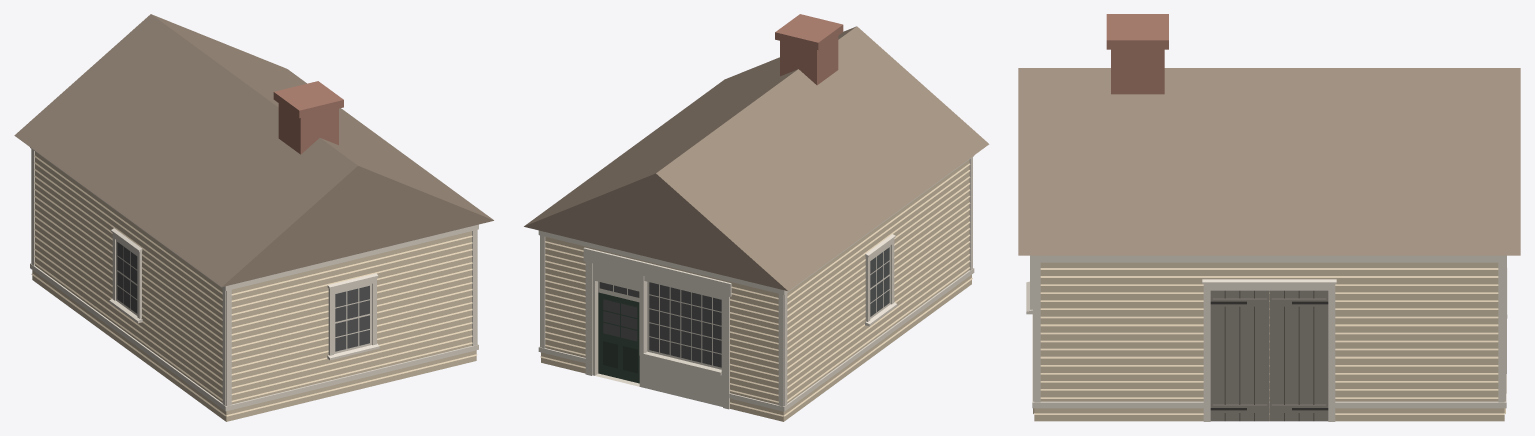
The model's file is recon_1835_core_c1_056__inferred_1835.glb.
3 views of the same model, side by side, from view 1: azimuth 30°, elevation 25°; view 2: azimuth 150°, elevation 25°; view 3: azimuth 270°, elevation 25° (orthographic). The views are drawn at different scales.
Parts seen in each view (by area): view 1: recon_1835_core_c1_056__inferred_1835; view 2: recon_1835_core_c1_056__inferred_1835; view 3: recon_1835_core_c1_056__inferred_1835.
Part boxes in pixels (x1,y1,x2,y2): recon_1835_core_c1_056__inferred_1835: [14, 14, 493, 421]; recon_1835_core_c1_056__inferred_1835: [524, 14, 989, 421]; recon_1835_core_c1_056__inferred_1835: [1018, 14, 1520, 421].
Size of the model in its own units: 6.01 by 5.55 by 7.89.
